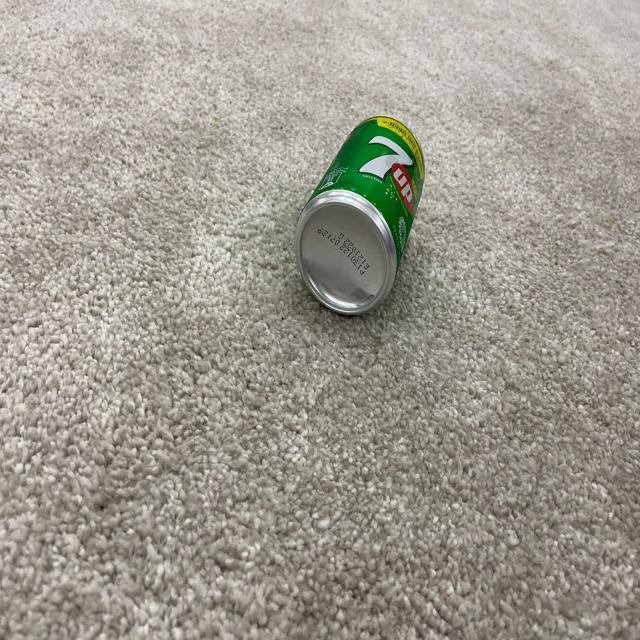can: (291, 112, 428, 317)
